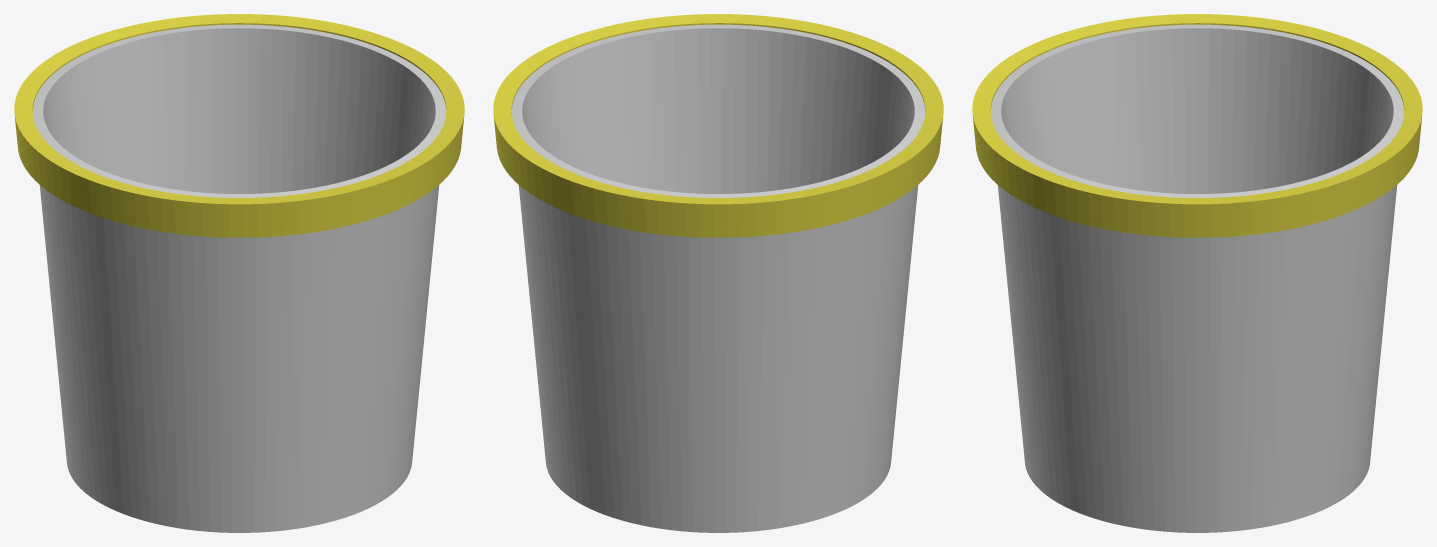
The model's file is bucket.fbx.
3 views of the same model, side by side, from view 1: azimuth 30°, elevation 25°; view 2: azimuth 150°, elevation 25°; view 3: azimuth 270°, elevation 25° (orthographic).
Visible parts, largest first — view 1: Cylinder, Cylinder.001; view 2: Cylinder, Cylinder.001; view 3: Cylinder, Cylinder.001.
Part boxes in pixels (bbox=[...]): Cylinder: bbox=[32, 24, 446, 532]; Cylinder.001: bbox=[14, 14, 464, 237]; Cylinder: bbox=[511, 24, 925, 532]; Cylinder.001: bbox=[493, 14, 943, 237]; Cylinder: bbox=[990, 24, 1404, 532]; Cylinder.001: bbox=[972, 14, 1422, 237].
Size of the model in its own units: 171 by 147 by 171.
